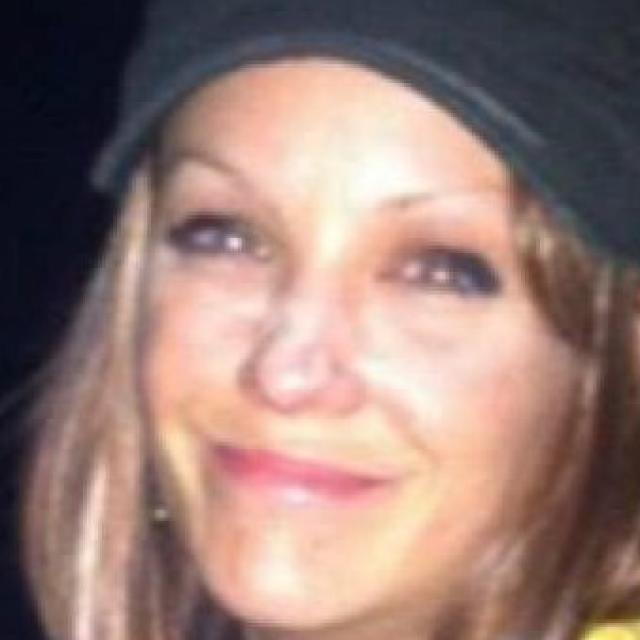Normal: (136, 60, 577, 628)
